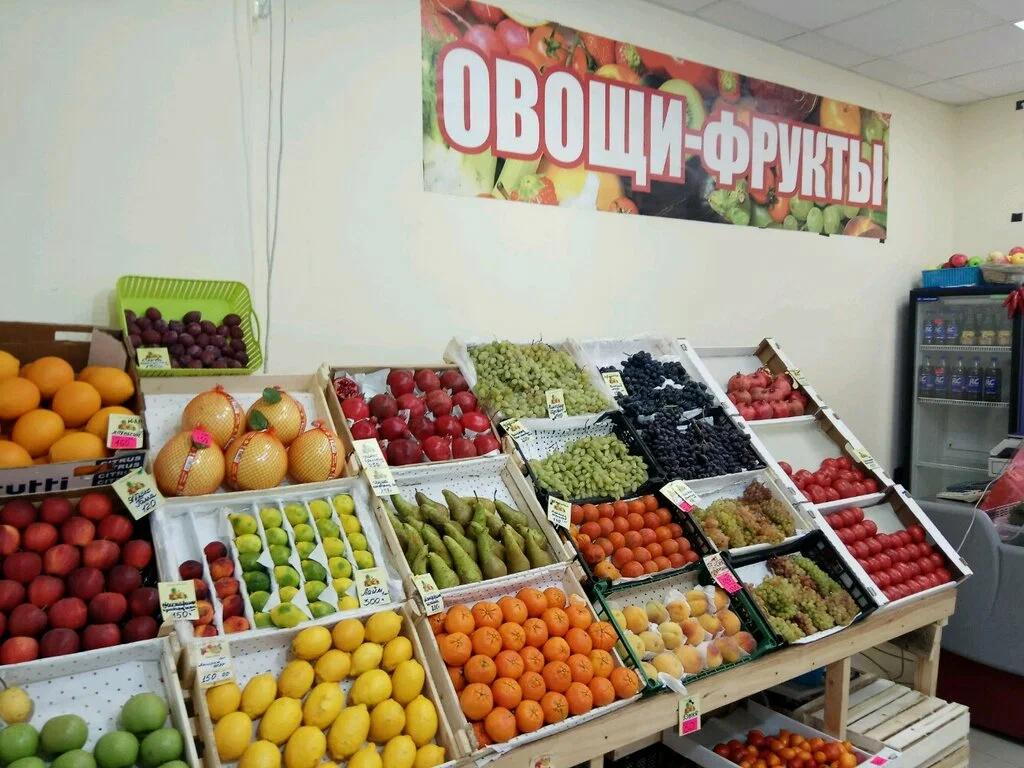grapes: (474, 335, 760, 490), (699, 479, 852, 634)
green apple: (0, 679, 181, 768)
lemon: (204, 624, 451, 768)
orange: (0, 344, 149, 469)
pear: (391, 474, 551, 577)
pomegranate: (336, 351, 503, 464), (730, 353, 814, 418)
red apple: (0, 496, 169, 656)
tomato: (795, 446, 953, 596)
